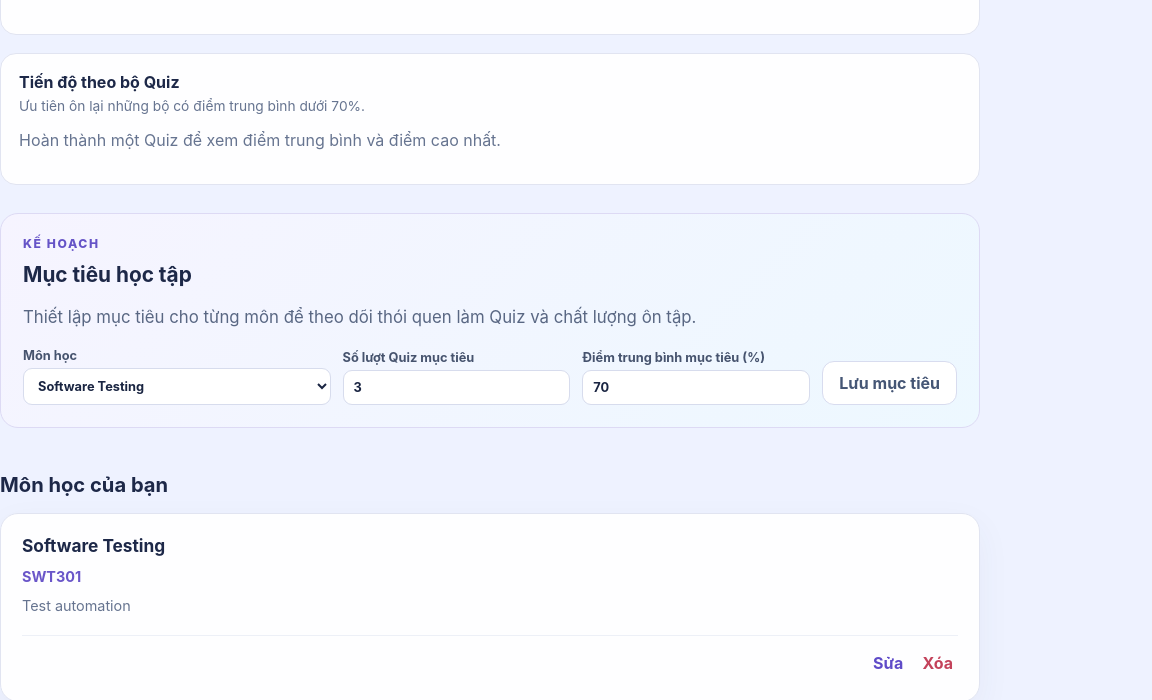
Scenario: Dashboard course UI › edits an existing course and refreshes the card
(page scrolled)
Expected: the heading "Software Testing" is shown, [22,535,165,556]
Click the button "Sửa": point(888, 663) [868,646,908,680]
(page scrolled)
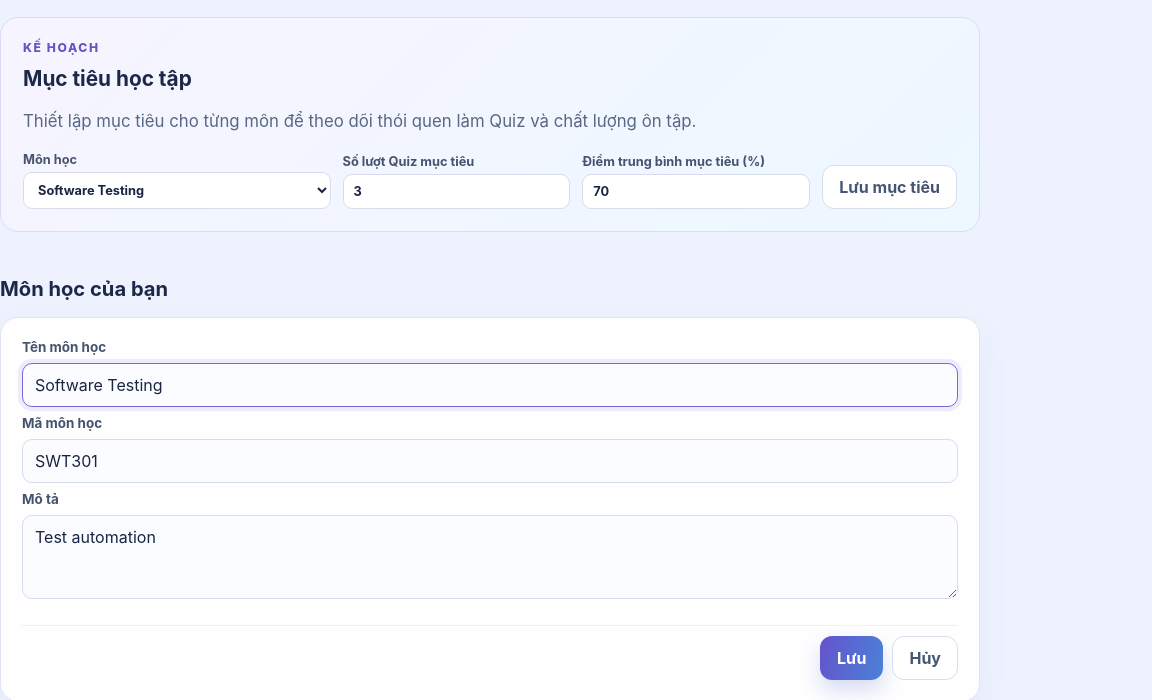
Replace the text in the field labelled "Tên môn học" with "Quality Engineering": point(490, 385) [22,363,958,407]
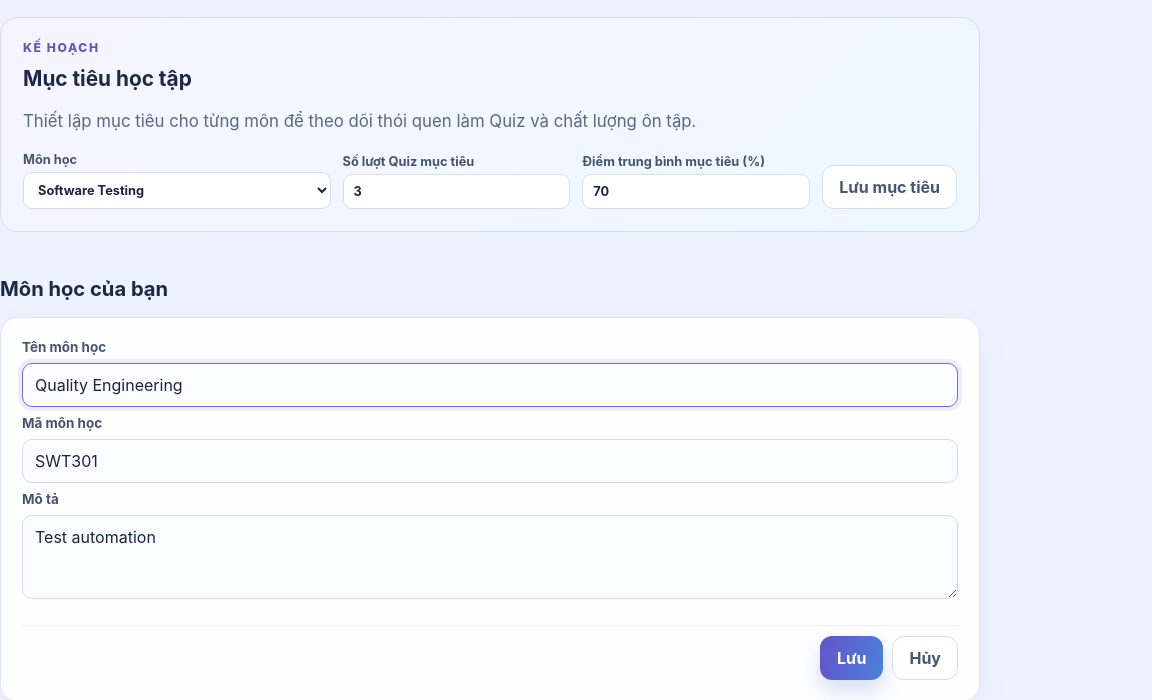
Replace the text in the field labelled "Mã môn học" with "QE401": point(490, 461) [22,439,958,483]
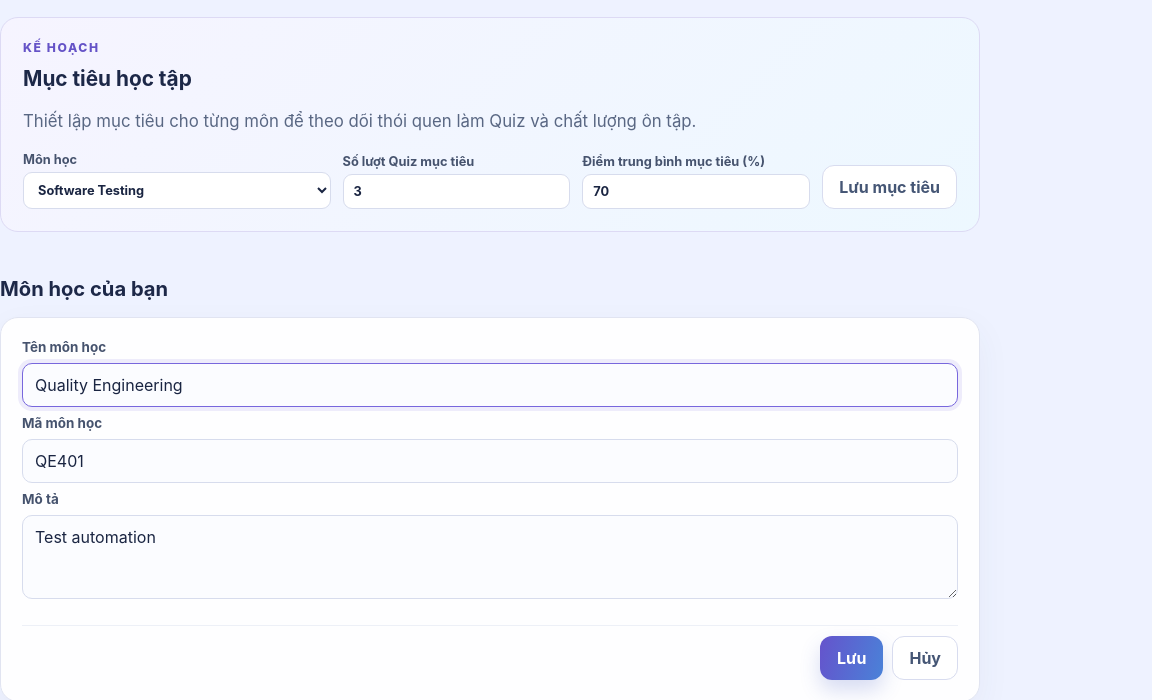
Replace the text in the text box labelled "Mô tả" with "Updated": point(490, 557) [22,515,958,599]
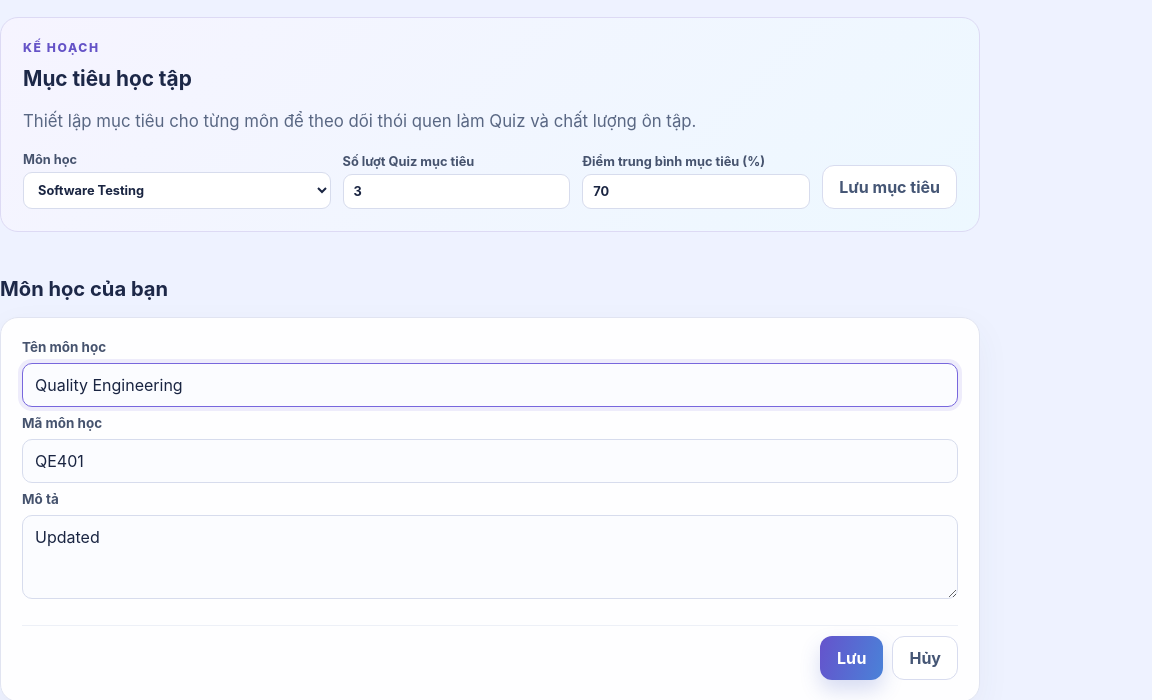
Click the button "Lưu": point(852, 658) [820,636,884,680]
(page scrolled)
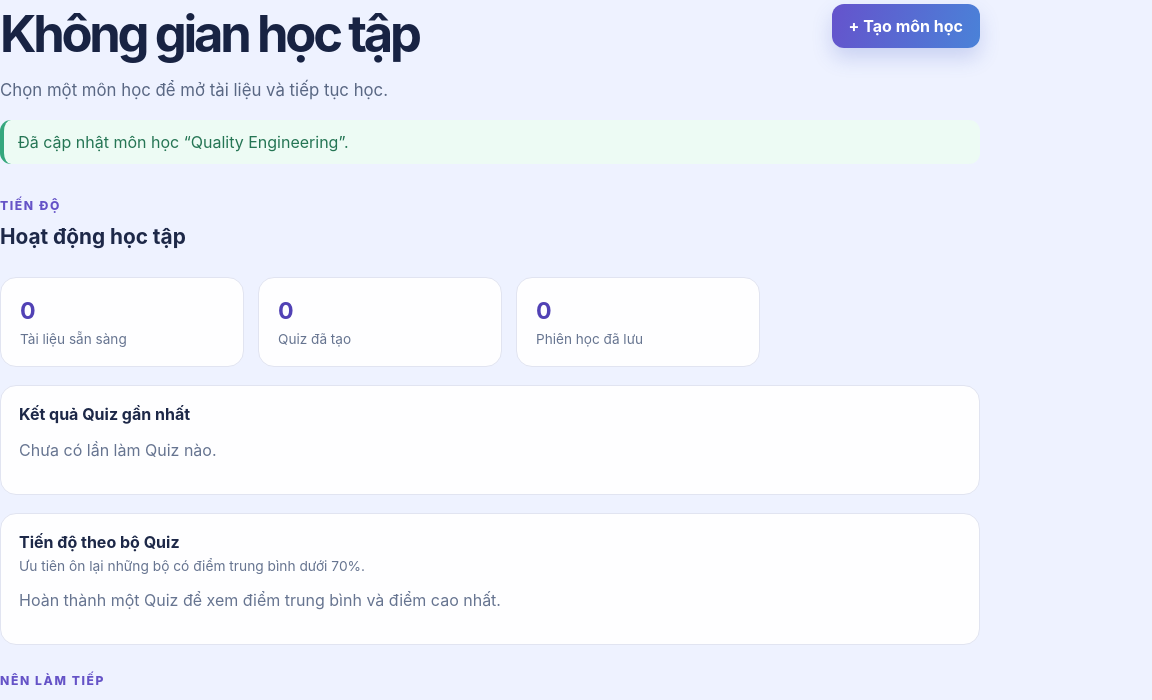
Expected: the message shows "Đã cập nhật môn học", [18,132,348,152]
